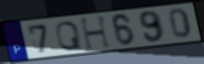0: (168, 7, 194, 41)
6: (111, 13, 137, 47)
7: (26, 22, 50, 55)
9: (138, 9, 168, 44)
H: (78, 14, 113, 51)
Q: (54, 20, 84, 52)
